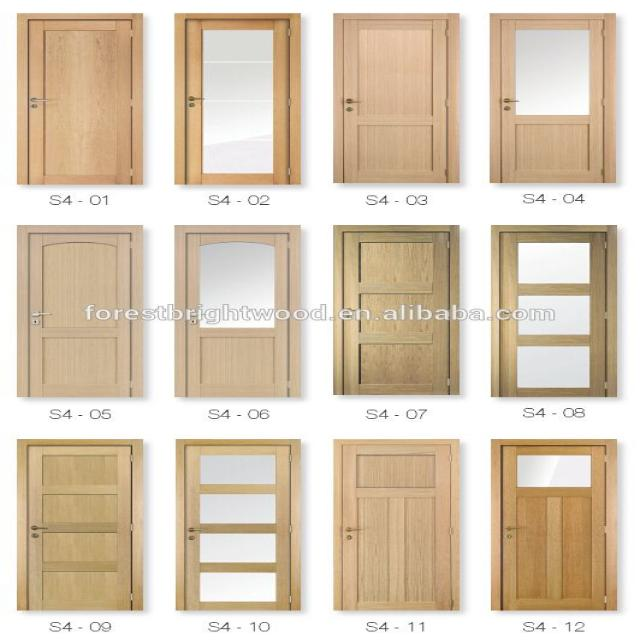door: (173, 224, 301, 397), (173, 12, 301, 184), (16, 224, 143, 397), (490, 224, 617, 397), (332, 12, 460, 183), (488, 12, 616, 183), (16, 438, 143, 610), (490, 438, 617, 610), (174, 438, 301, 610), (332, 439, 458, 611), (17, 12, 143, 184), (334, 225, 458, 395)
